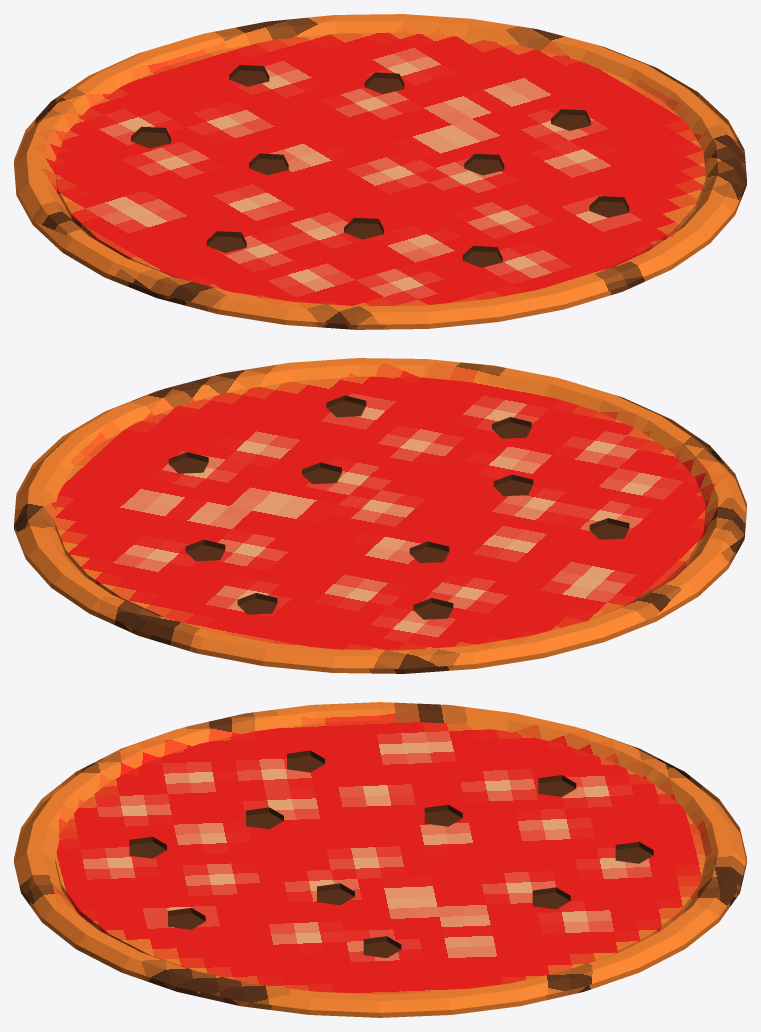
File: pizza.glb
3 renders of one model, top to bottom at view 1: azimuth 30°, elevation 25°; view 2: azimuth 150°, elevation 25°; view 3: azimuth 270°, elevation 25°, orthographic.
Visible parts, largest first — view 1: Circle.001; view 2: Circle.001; view 3: Circle.001.
Part boxes in pixels (x1,y1,x2,y2): Circle.001: [14, 14, 746, 329]; Circle.001: [14, 358, 746, 673]; Circle.001: [14, 702, 746, 1017].
Bounding box in the file's own units: 4.81 × 0.0836 × 4.81.
1 material, 1 textured.
